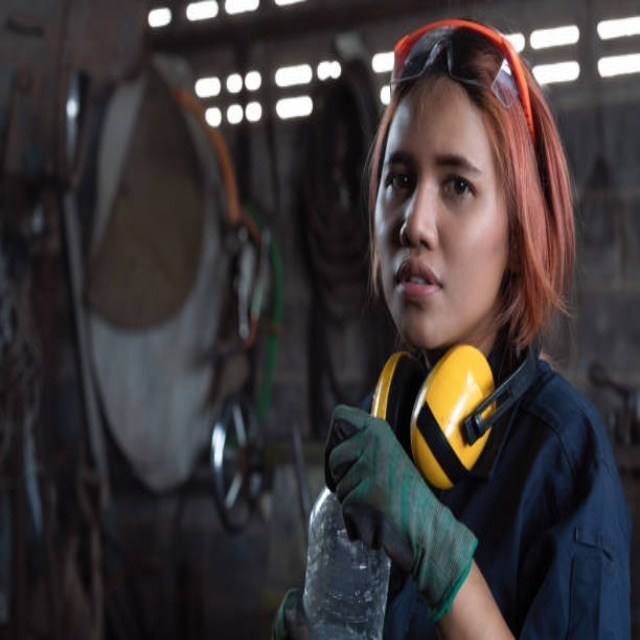Guantes: (323, 395, 478, 626)
Sin_gafas: (381, 147, 486, 207)
Sin_mascara: (383, 246, 454, 323)
